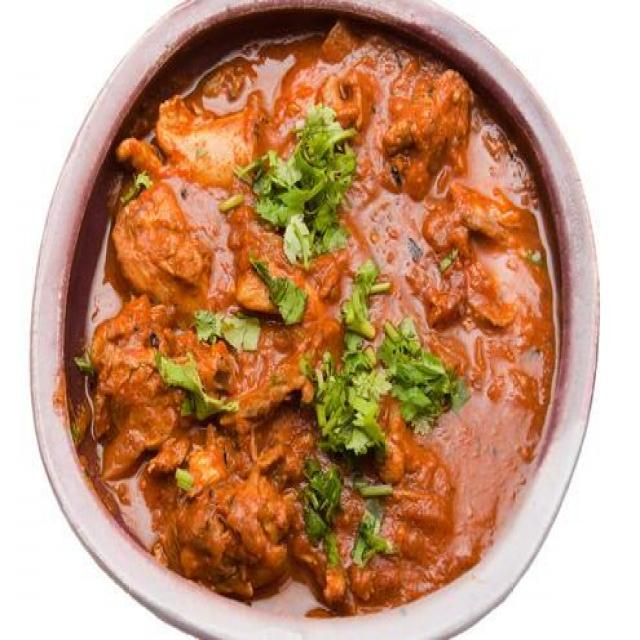chicken: (91, 0, 576, 595)
